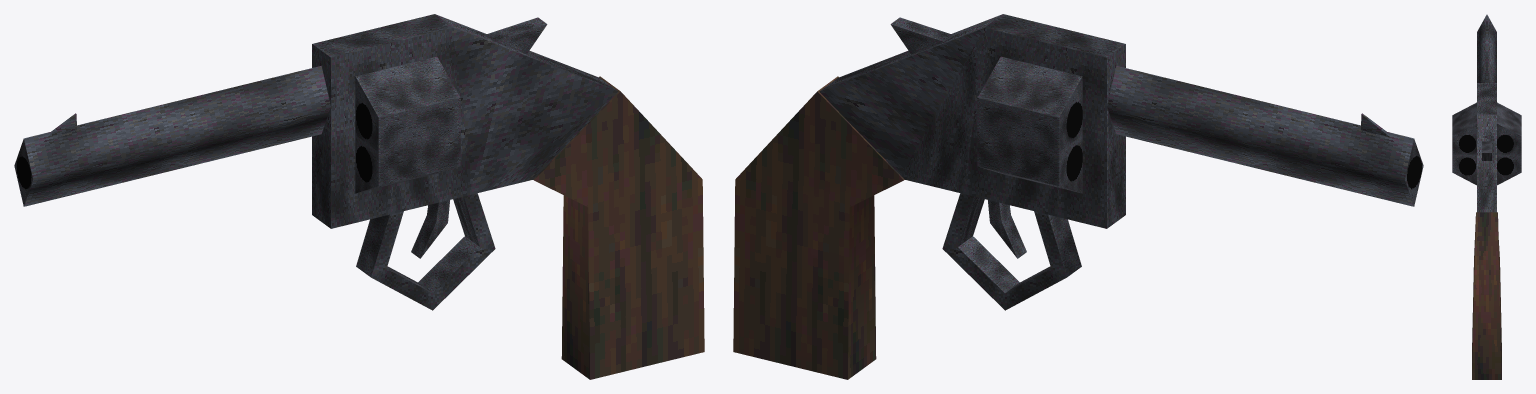
File: revolver_noir.glb
The picture shows the model from 3 angles, left to right: view 1: azimuth 30°, elevation 25°; view 2: azimuth 150°, elevation 25°; view 3: azimuth 270°, elevation 25°; orthographic projection. The views are drawn at different scales.
Parts seen in each view (by area): view 1: Revolver noir_Material #3_0, Revolver noir_Material #7_0, Revolver noir_Material #5_0, Revolver noir_Material #6_0; view 2: Revolver noir_Material #3_0, Revolver noir_Material #7_0, Revolver noir_Material #5_0, Revolver noir_Material #6_0; view 3: Revolver noir_Material #3_0, Revolver noir_Material #7_0, Revolver noir_Material #5_0.
Boxes of the visible parts, <box> form: Revolver noir_Material #3_0: <box>24,14,618,310</box>; Revolver noir_Material #7_0: <box>533,76,704,379</box>; Revolver noir_Material #5_0: <box>355,77,378,193</box>; Revolver noir_Material #6_0: <box>14,139,32,206</box>; Revolver noir_Material #3_0: <box>819,14,1413,310</box>; Revolver noir_Material #7_0: <box>733,76,904,379</box>; Revolver noir_Material #5_0: <box>1059,77,1082,193</box>; Revolver noir_Material #6_0: <box>1405,139,1423,206</box>; Revolver noir_Material #3_0: <box>1452,14,1521,212</box>; Revolver noir_Material #7_0: <box>1472,212,1501,379</box>; Revolver noir_Material #5_0: <box>1452,123,1521,185</box>.
Size of the model in its own units: 1.04 by 0.565 by 0.176.
Materials: 4 (4 with a texture image).
